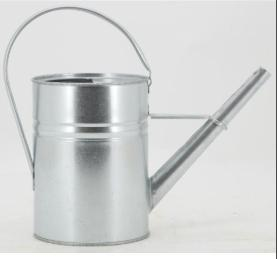ARROSOIR: (3, 4, 277, 255)
